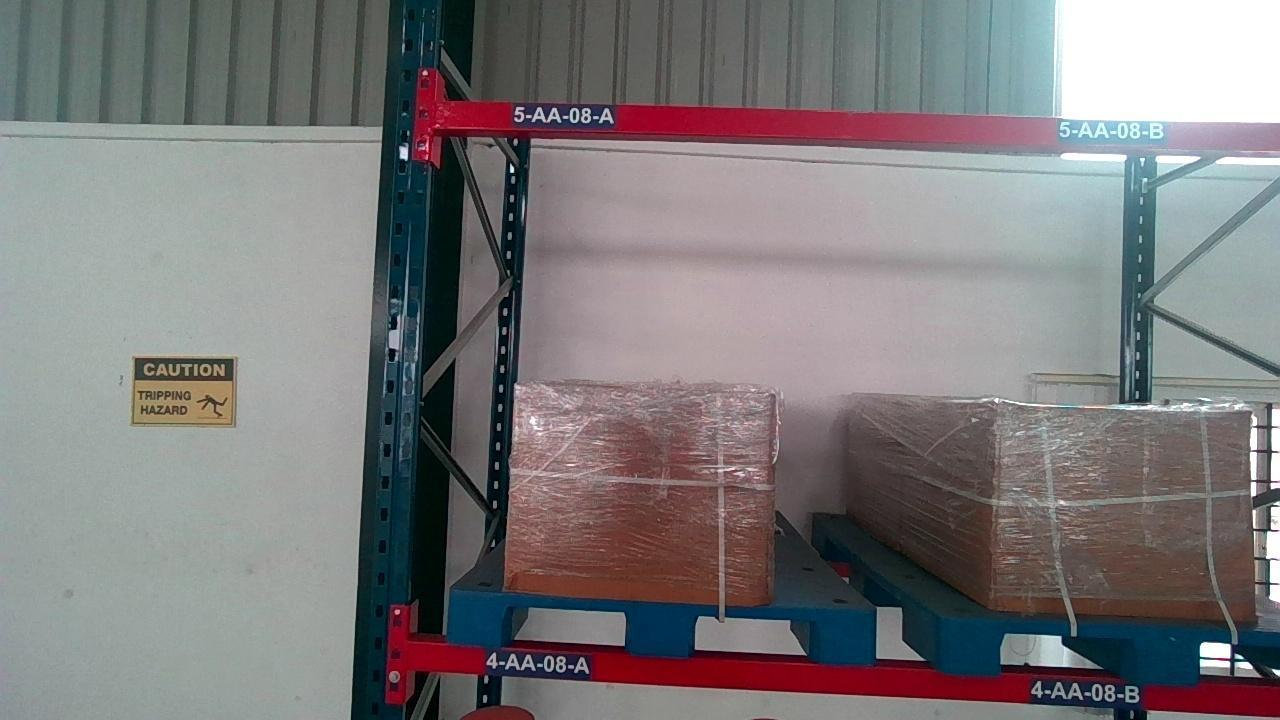h_rack: (420, 655, 1274, 702), (428, 99, 1217, 147), (1054, 121, 1280, 149)
small_pallet: (445, 597, 877, 656), (946, 621, 1276, 680), (1048, 117, 1280, 149)
